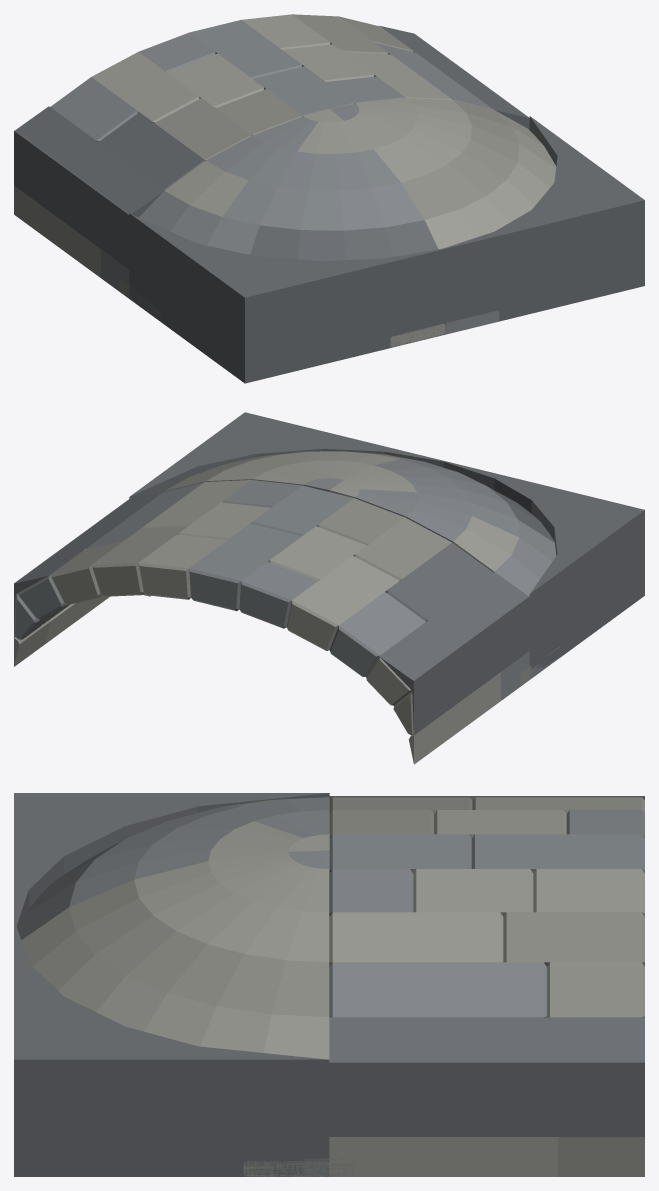
The model's file is SM_LPD_Struct_CeilVaultBayEnd_01.fbx.
The picture shows the model from 3 angles, top to bottom: view 1: azimuth 30°, elevation 25°; view 2: azimuth 150°, elevation 25°; view 3: azimuth 270°, elevation 25°; orthographic projection. The views are drawn at different scales.
Parts seen in each view (by area): view 1: SM_LPD_Struct_CeilVaultBayEnd_01; view 2: SM_LPD_Struct_CeilVaultBayEnd_01; view 3: SM_LPD_Struct_CeilVaultBayEnd_01.
Part boxes in pixels (left/top/right/bottom): SM_LPD_Struct_CeilVaultBayEnd_01: left=14, top=14, right=644, bottom=383; SM_LPD_Struct_CeilVaultBayEnd_01: left=14, top=412, right=644, bottom=764; SM_LPD_Struct_CeilVaultBayEnd_01: left=14, top=793, right=644, bottom=1176.
Size of the model in its own units: 4 by 1.35 by 4.
